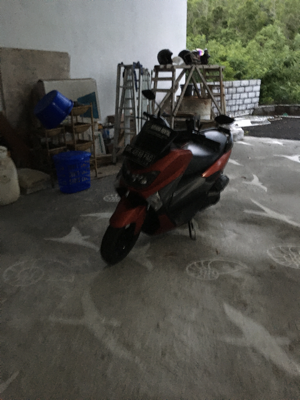moto: (101, 106, 232, 263)
